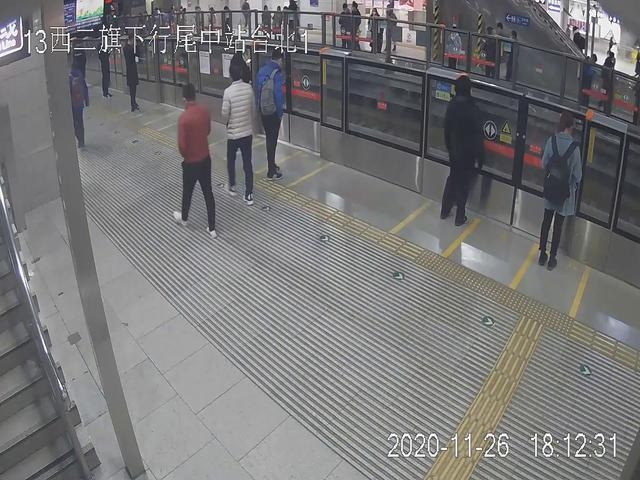person: (173, 80, 219, 235), (539, 108, 583, 270), (440, 73, 479, 231), (221, 64, 259, 205), (258, 46, 292, 182), (120, 34, 147, 111), (67, 60, 90, 150)
